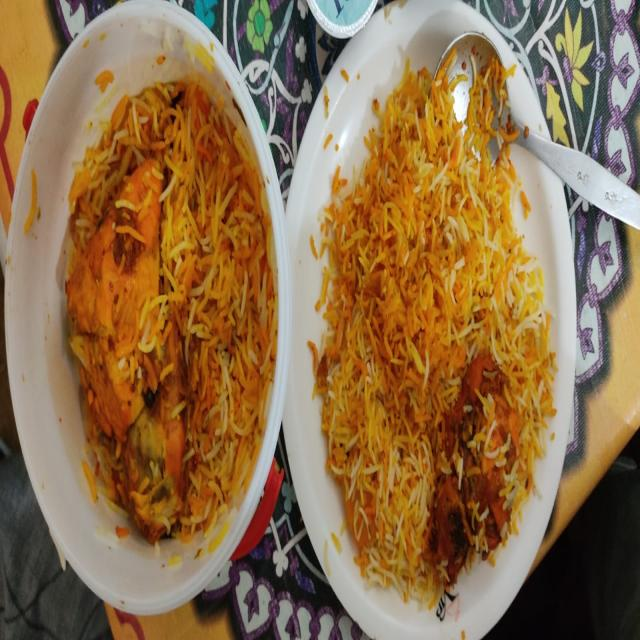Biryani: (323, 116, 547, 562), (37, 102, 270, 510)
